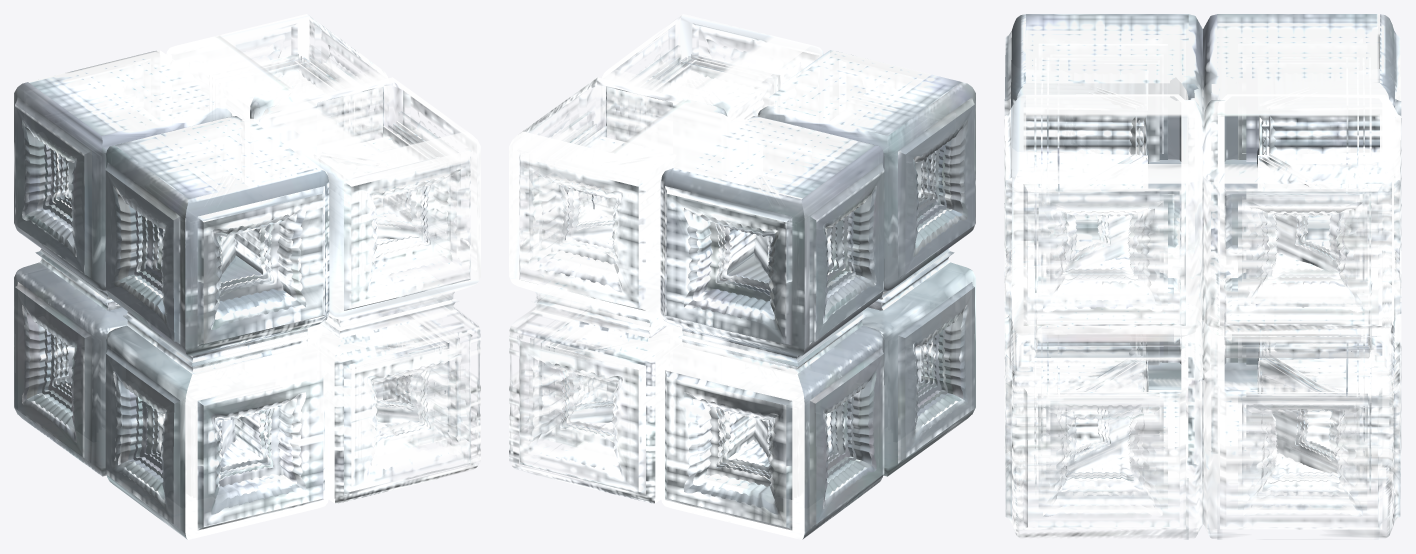
File: holographic_cube_compressed.glb
The picture shows the model from 3 angles, left to right: view 1: azimuth 30°, elevation 25°; view 2: azimuth 150°, elevation 25°; view 3: azimuth 270°, elevation 25°; orthographic projection. The views are drawn at different scales.
Parts seen in each view (by area): view 1: Cube; view 2: Cube; view 3: Cube.
Boxes of the visible parts, x1,y1,x2,y2 form: Cube: (14,14,480,539); Cube: (509,14,975,539); Cube: (1004,14,1401,539).
Bounding box in the file's own units: 4.18 × 4.44 × 4.25.
1 material, 1 textured.
